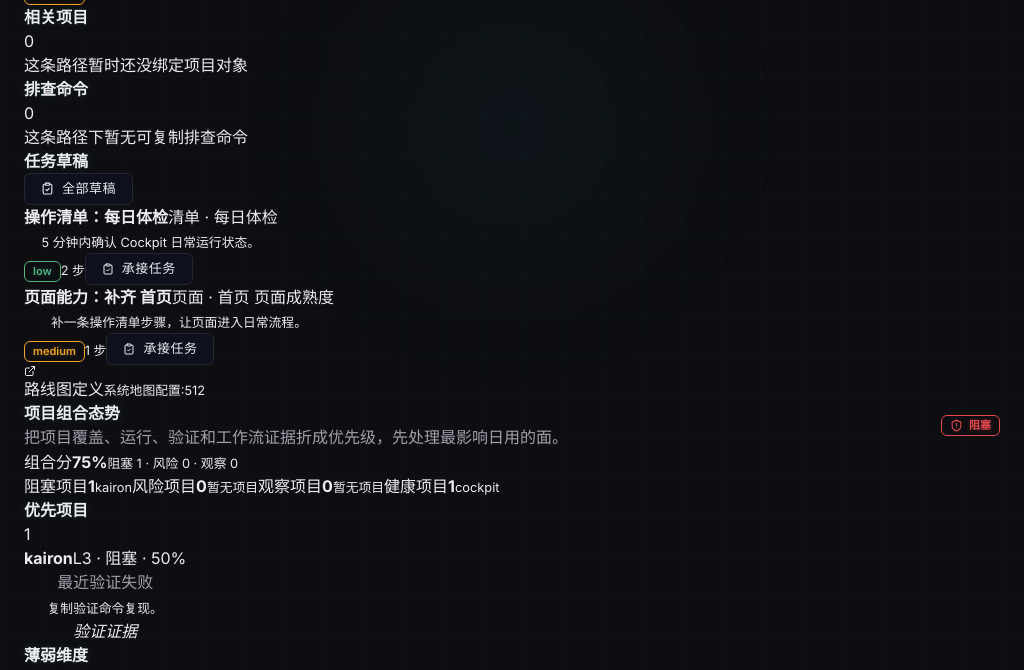
Scenario: SystemMapView rendering › previews source references inside the system map
(page scrolled)
Click the button "路线图定义": (115, 383) x1=24 y1=365 x2=205 y2=401
(page scrolled)
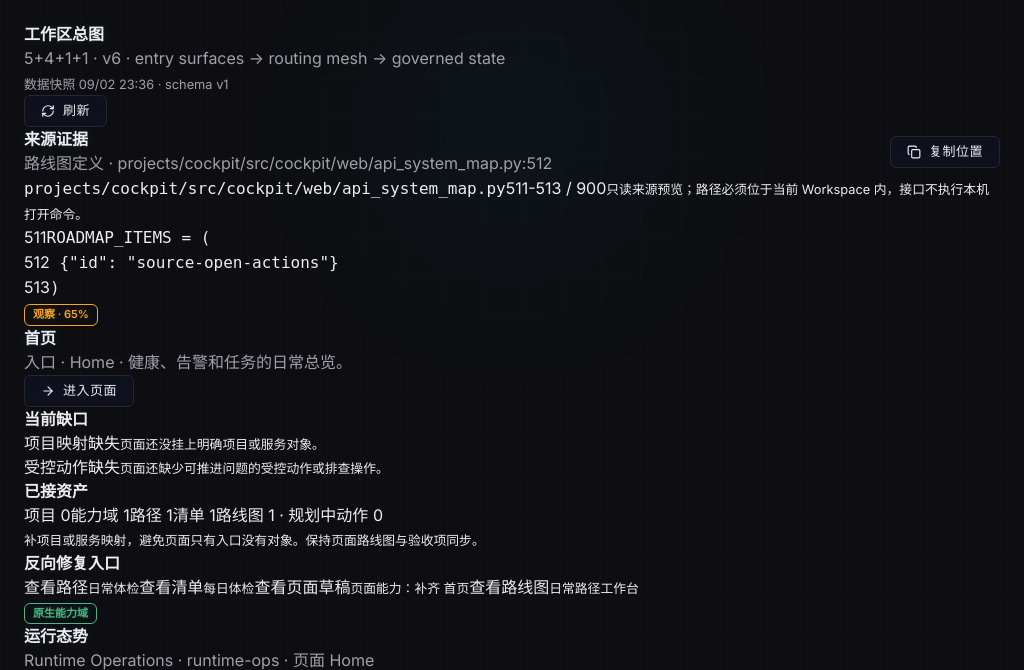
Expected: the text "ROADMAP_ITEMS = (" is shown, x1=46 y1=228 x2=210 y2=247
Expected: the text "只读来源预览；路径必须位于当前 Workspace 内，接口不执行本机打开命令。" is shown, x1=24 y1=182 x2=989 y2=222
